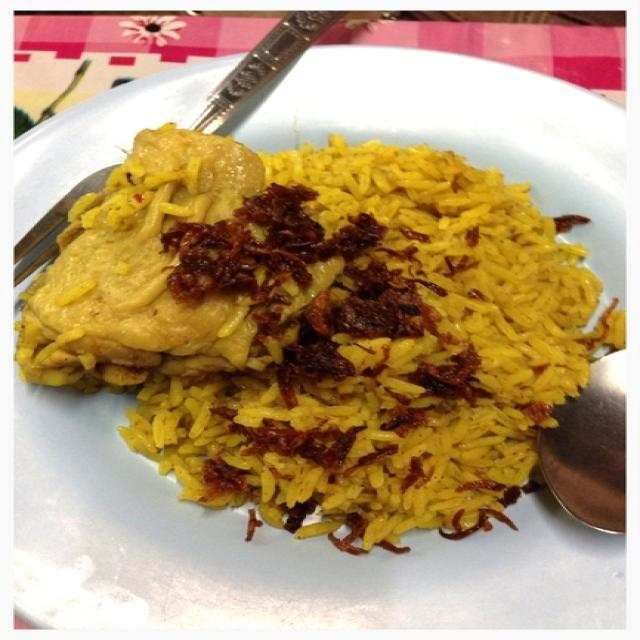米饭主食: (26, 53, 608, 581)
